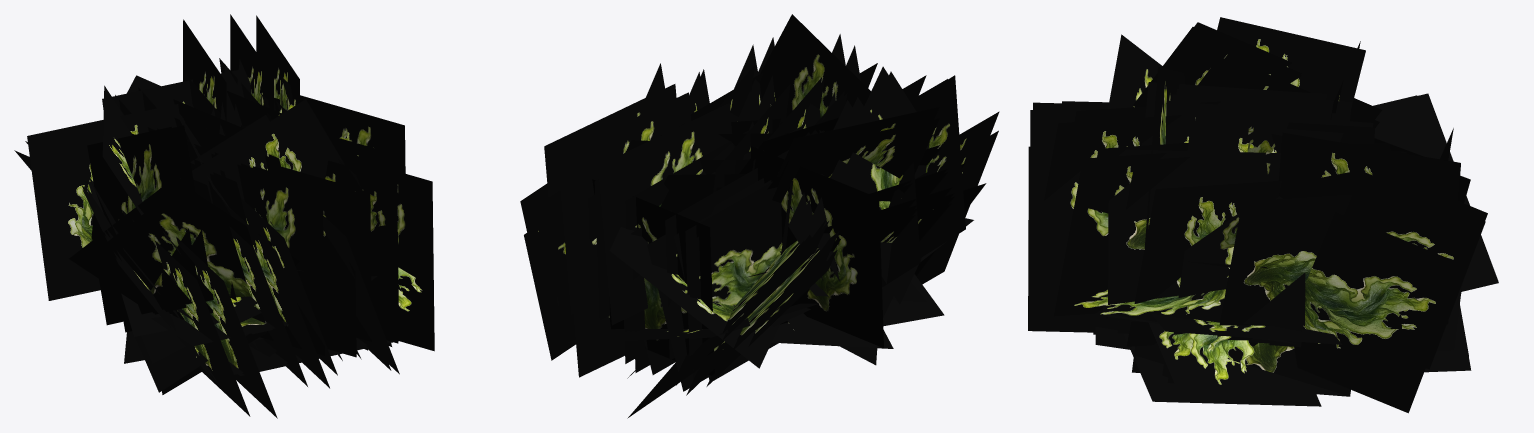
File: seaweed.glb
3 views of the same model, side by side, from view 1: azimuth 30°, elevation 25°; view 2: azimuth 150°, elevation 25°; view 3: azimuth 270°, elevation 25° (orthographic). The views are drawn at different scales.
Parts seen in each view (by area): view 1: there-is-piece-seaweed-that-is-white-surface-generative-ai_1; view 2: there-is-piece-seaweed-that-is-white-surface-generative-ai_1; view 3: there-is-piece-seaweed-that-is-white-surface-generative-ai_1.
Boxes of the visible parts, <box> form: there-is-piece-seaweed-that-is-white-surface-generative-ai_1: <box>14,14,434,418</box>; there-is-piece-seaweed-that-is-white-surface-generative-ai_1: <box>520,14,999,418</box>; there-is-piece-seaweed-that-is-white-surface-generative-ai_1: <box>1028,17,1498,413</box>.
Size of the model in its own units: 2.63 by 2.03 by 2.9.
Materials: 4 (4 with a texture image).
